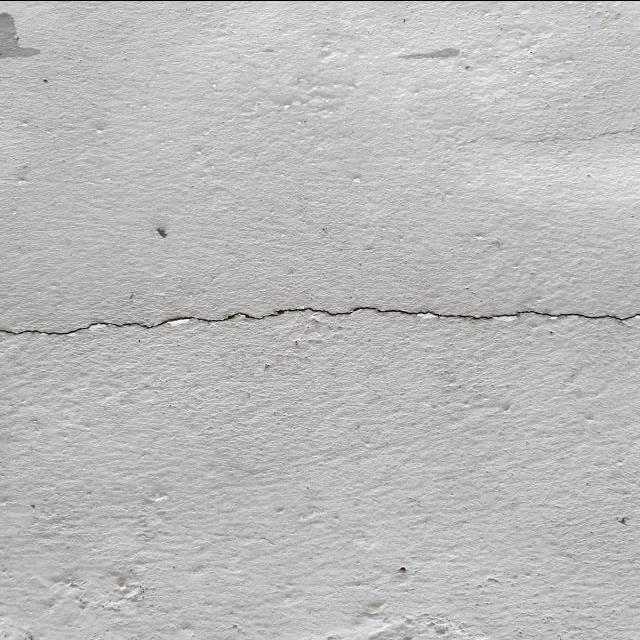SurfaceCrack: (1, 250, 640, 378)
